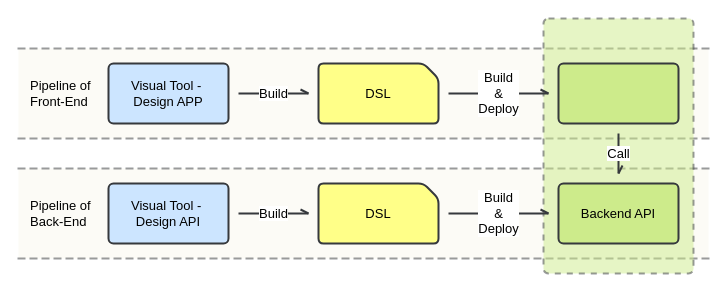
This 726x291 diagram has some shape labels left out. Here are the shapes that lost their labels. From the top down, the box of each, then its label:
(557, 62, 679, 124): Frontend APP
(542, 17, 694, 274): Productions
